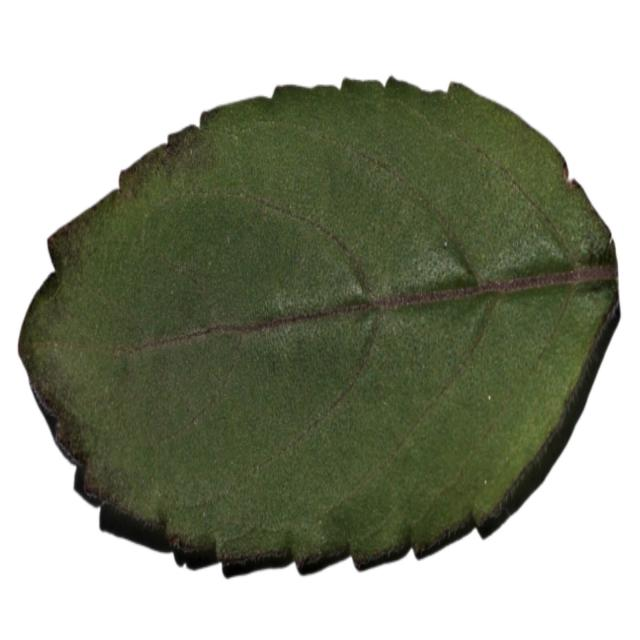tulsi: (12, 61, 618, 582)
